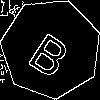B: (26, 23, 78, 80)
